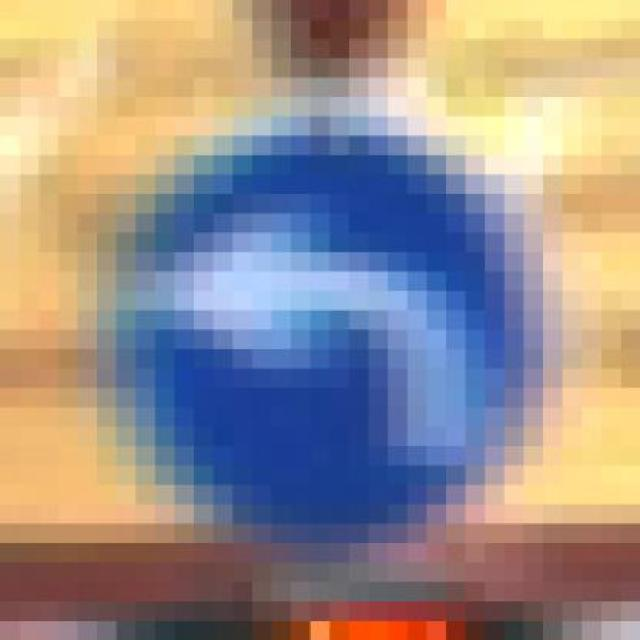Turn left ahead: (77, 78, 543, 562)
